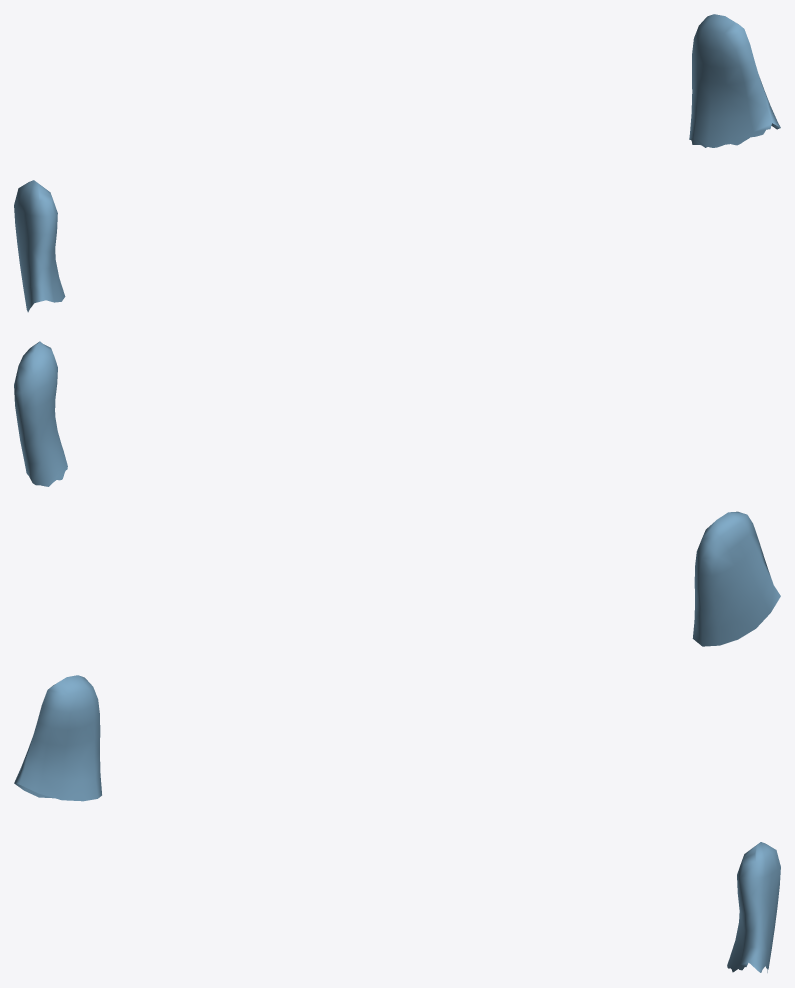
Rendered from Coronoid.fbx.
The picture shows the model from 3 angles, top to bottom: view 1: azimuth 30°, elevation 25°; view 2: azimuth 150°, elevation 25°; view 3: azimuth 330°, elevation 25°; orthographic projection.
Visible parts, largest first — view 1: Coronoid; view 2: Coronoid; view 3: Coronoid.
Boxes of the visible parts, x1,y1,x2,y2 form: Coronoid: (14,14,780,312); Coronoid: (14,341,780,646); Coronoid: (14,675,780,972).
Bounding box in the file's own units: 479 × 78.38 × 55.03.
